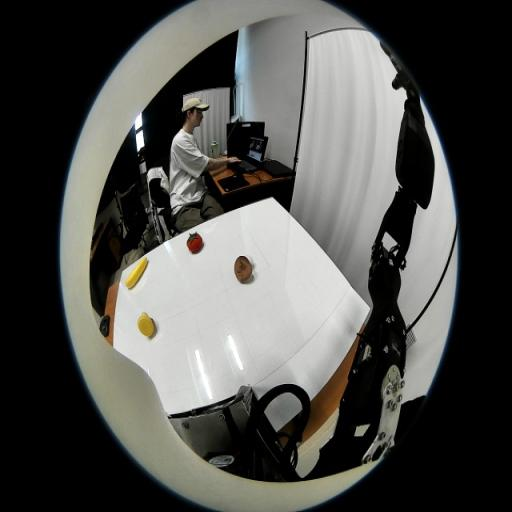Banana: (125, 257, 147, 288)
Duck: (137, 312, 154, 336)
Mushroom: (234, 256, 252, 282)
Tomato: (186, 232, 202, 253)
